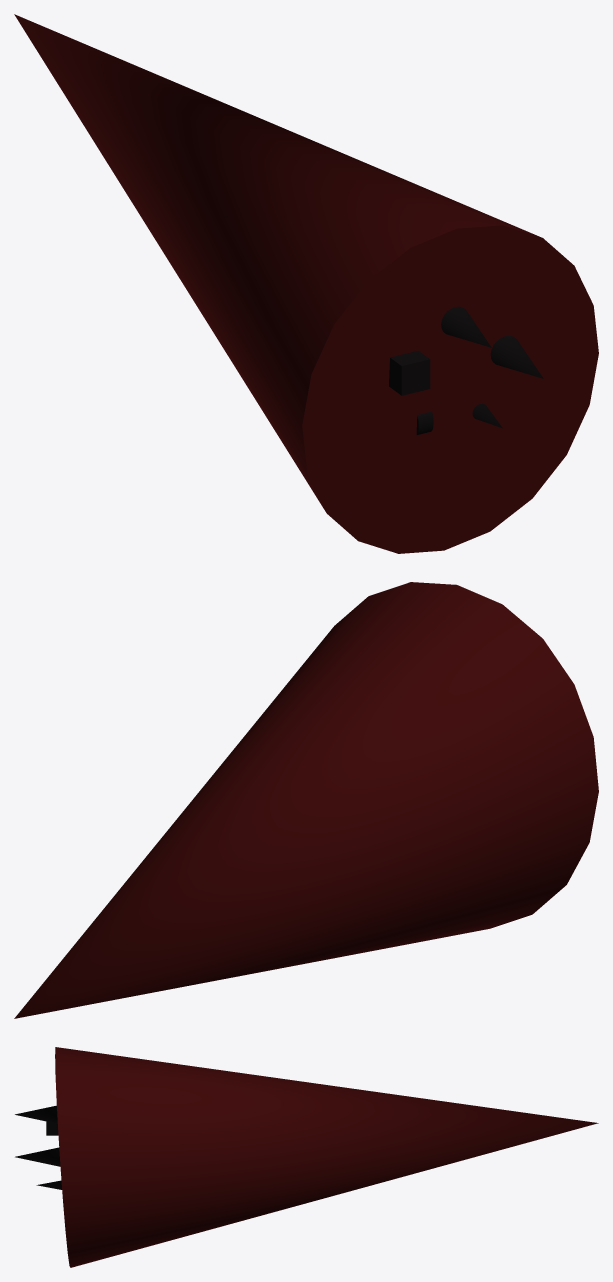
The model's file is e_left_arm2.obj.
3 renders of one model, top to bottom at view 1: azimuth 30°, elevation 25°; view 2: azimuth 150°, elevation 25°; view 3: azimuth 270°, elevation 25°, orthographic. The views are drawn at different scales.
Visible parts, largest first — view 1: e_left_arm2 polySurface10, e_left_arm2 polySurface9, e_left_arm2 polySurface12, e_left_arm2 polySurface13; view 2: e_left_arm2 polySurface10; view 3: e_left_arm2 polySurface10, e_left_arm2 polySurface12, e_left_arm2 polySurface13.
Boxes of the visible parts, box(x1,y1,x2,y2) form: e_left_arm2 polySurface10: box(14, 14, 598, 553); e_left_arm2 polySurface9: box(389, 350, 430, 395); e_left_arm2 polySurface12: box(490, 335, 543, 378); e_left_arm2 polySurface13: box(441, 306, 491, 347); e_left_arm2 polySurface10: box(14, 582, 598, 1018); e_left_arm2 polySurface10: box(55, 1047, 598, 1267); e_left_arm2 polySurface12: box(15, 1147, 60, 1166); e_left_arm2 polySurface13: box(15, 1105, 57, 1123).
Size of the model in its own units: 0.5796 by 0.6188 by 1.61.
